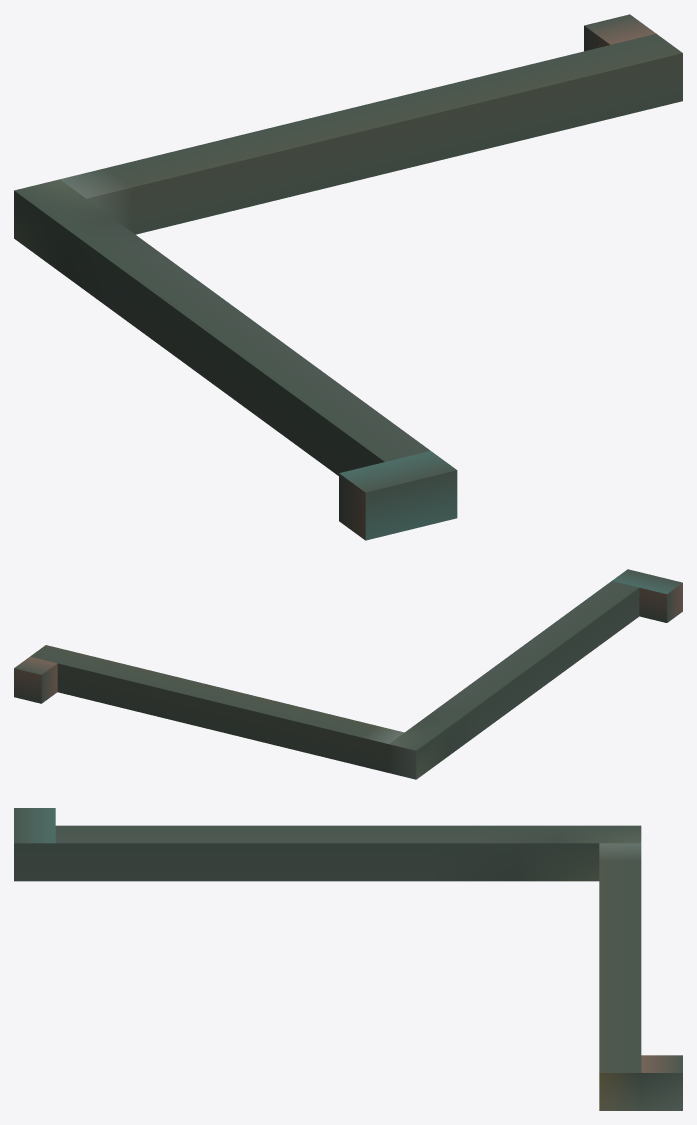
File: KitchenRack_00.fbx
The picture shows the model from 3 angles, top to bottom: view 1: azimuth 30°, elevation 25°; view 2: azimuth 150°, elevation 25°; view 3: azimuth 270°, elevation 25°; orthographic projection. The views are drawn at different scales.
Visible parts, largest first — view 1: KitchenRack_00; view 2: KitchenRack_00; view 3: KitchenRack_00.
Boxes of the visible parts, <box> form: KitchenRack_00: <box>14,14,682,540</box>; KitchenRack_00: <box>14,569,682,779</box>; KitchenRack_00: <box>14,808,682,1110</box>.
Size of the model in its own units: 75 by 80 by 5.
Materials: 1 (1 with a texture image).
